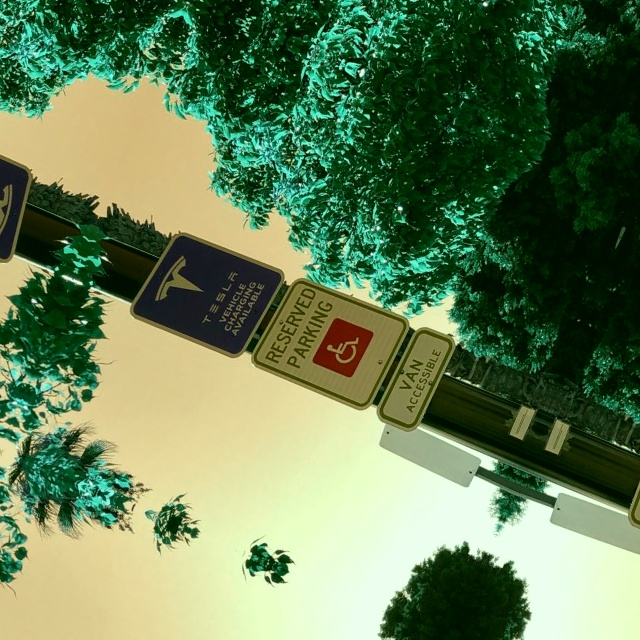ISA: (315, 317, 370, 377)
